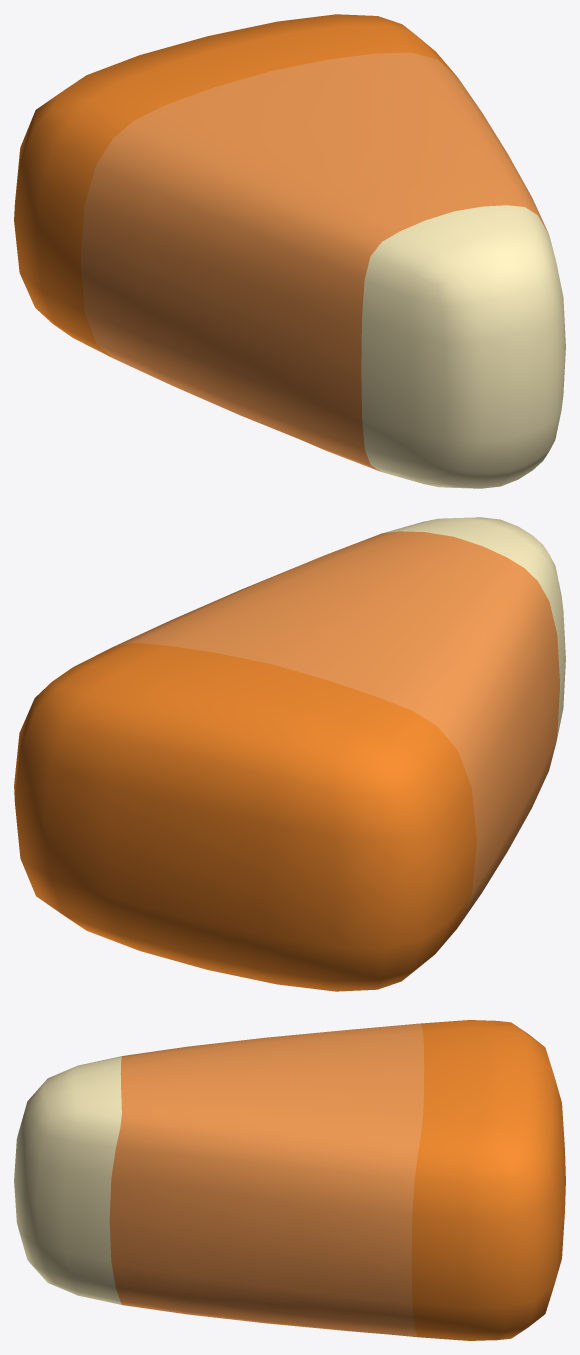
Rendered from Gummy_A_01.fbx.
The picture shows the model from 3 angles, top to bottom: view 1: azimuth 30°, elevation 25°; view 2: azimuth 150°, elevation 25°; view 3: azimuth 270°, elevation 25°; orthographic projection. The views are drawn at different scales.
Visible parts, largest first — view 1: Gummy_A_01_LOD0; view 2: Gummy_A_01_LOD0; view 3: Gummy_A_01_LOD0.
Part boxes in pixels (x1,y1,x2,y2): Gummy_A_01_LOD0: (14, 14, 565, 488); Gummy_A_01_LOD0: (14, 517, 565, 991); Gummy_A_01_LOD0: (14, 1020, 565, 1340).
Size of what is drawn, in the model's own units: 314 by 194 by 433.
